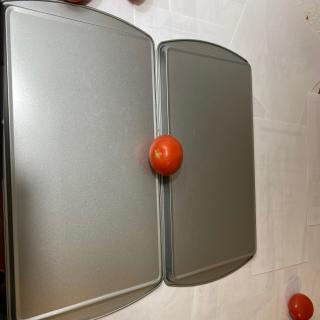Tomato: (149, 134, 183, 176), (288, 293, 314, 320)
